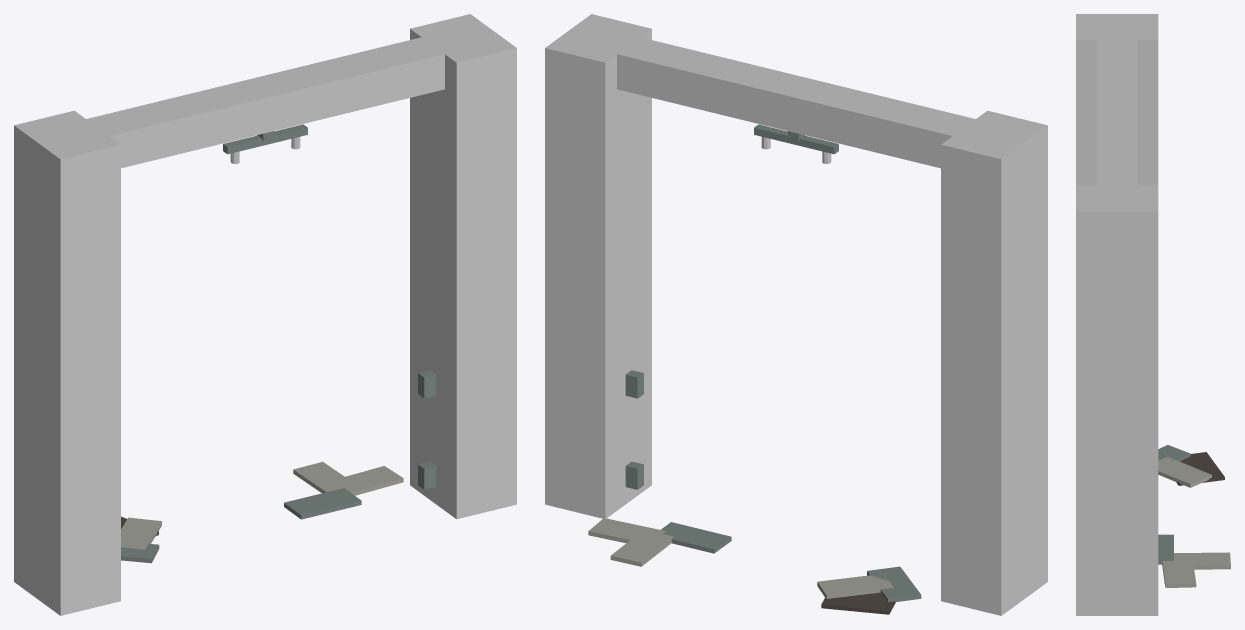
File: SM_PuertaVia_v4_Blindada_e3_Brecha_LOD0.fbx
3 renders of one model, left to right at view 1: azimuth 30°, elevation 25°; view 2: azimuth 150°, elevation 25°; view 3: azimuth 270°, elevation 25°, orthographic. The views are drawn at different scales.
Parts seen in each view (by area): view 1: SM_bloques.puerta_via_v19_LOD0, Hoja_E; view 2: SM_bloques.puerta_via_v19_LOD0, Hoja_E; view 3: SM_bloques.puerta_via_v19_LOD0.
Boxes of the visible parts, bbox=[...] form: SM_bloques.puerta_via_v19_LOD0: bbox=[14, 14, 516, 615]; Hoja_E: bbox=[418, 370, 436, 489]; SM_bloques.puerta_via_v19_LOD0: bbox=[545, 14, 1047, 615]; Hoja_E: bbox=[625, 370, 643, 489]; SM_bloques.puerta_via_v19_LOD0: bbox=[1076, 14, 1230, 615].
Size of the model in its own units: 6.8 by 6.5 by 2.26.
